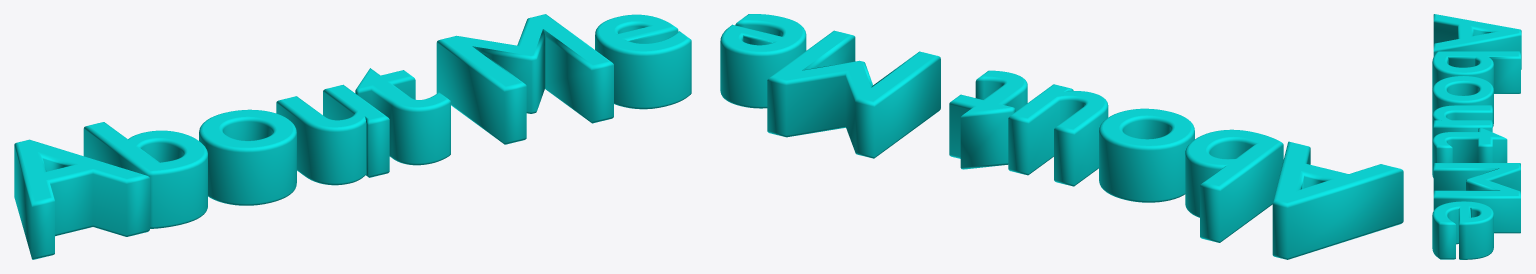
3 renders of one model, left to right at view 1: azimuth 30°, elevation 25°; view 2: azimuth 150°, elevation 25°; view 3: azimuth 270°, elevation 25°, orthographic. The views are drawn at different scales.
Visible parts, largest first — view 1: Text; view 2: Text; view 3: Text.
Boxes of the visible parts, x1,y1,x2,y2 form: Text: [14, 14, 691, 259]; Text: [720, 14, 1403, 259]; Text: [1432, 14, 1521, 259].
Size of the model in its own units: 4.11 by 0.34 by 0.735.
